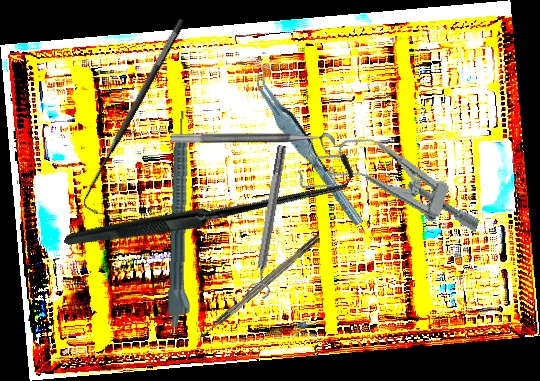Fixation Ring: (244, 143, 296, 300), (171, 133, 335, 157)
Handpiece: (166, 110, 200, 328)
Hook Surgical: (63, 55, 360, 350), (73, 16, 200, 217), (194, 234, 322, 343)
Speculum: (293, 120, 493, 246)
Tissue Forceps: (249, 60, 365, 237)
